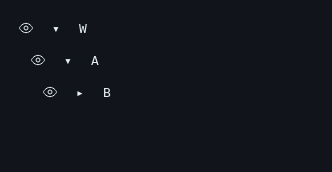
Test: VolumeTree › opens two levels deep, expands on demand and hides a revealed row
Expected: the button named "Hide B" is shown, [36,78,64,106]
Click the button named "Expand B".
click(80, 92)  # box [66,78,94,106]
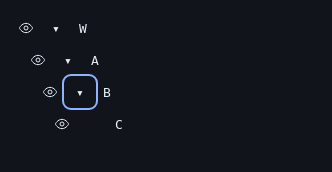
Click the button named "Hide C".
click(62, 124)  # box [48,110,76,138]
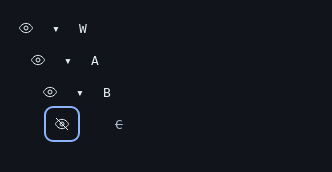
Expected: the button named "Show C" is shown, [48,110,76,138]
